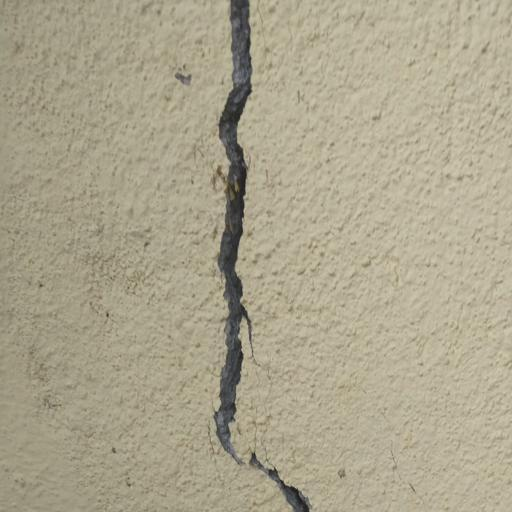major_crack: (186, 0, 321, 512)
